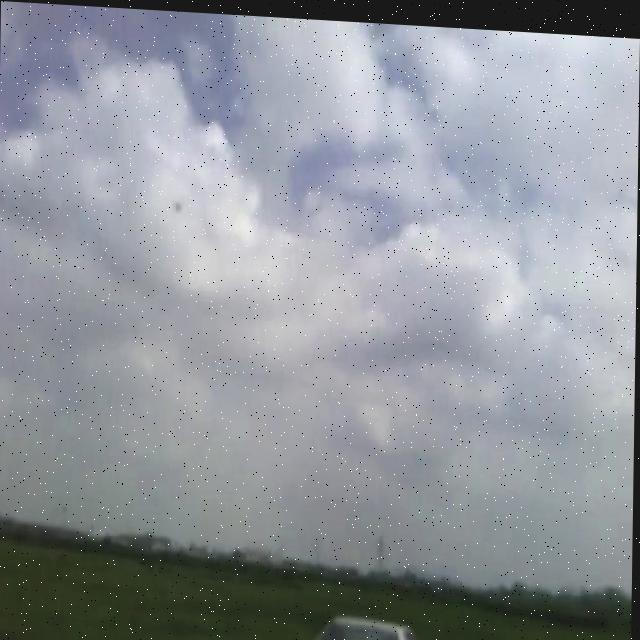drone: (170, 191, 184, 212)
